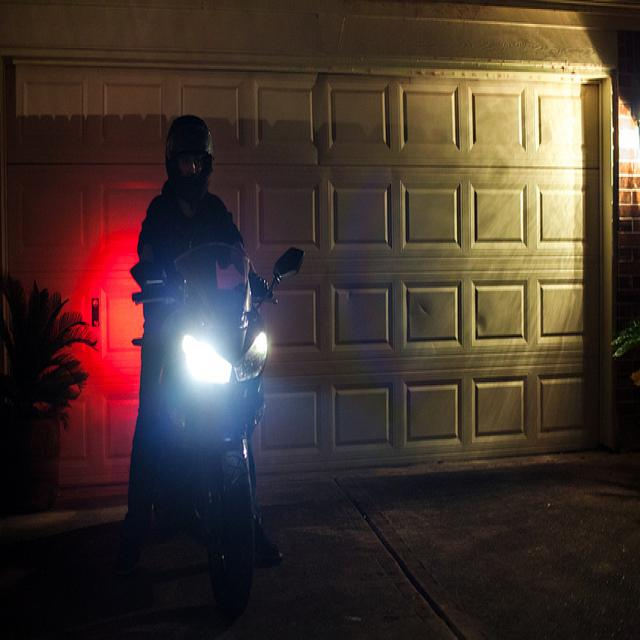Motorbike: (122, 244, 286, 621)
